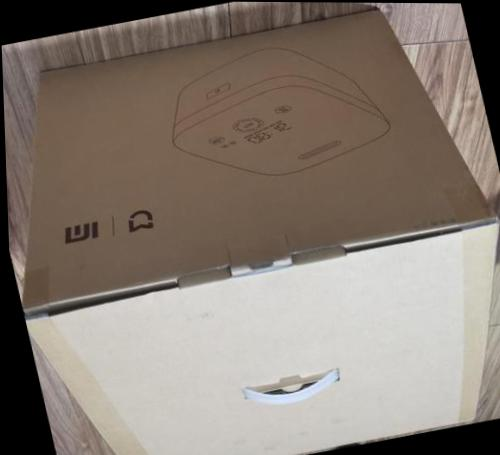cardboard: (2, 3, 499, 453)
